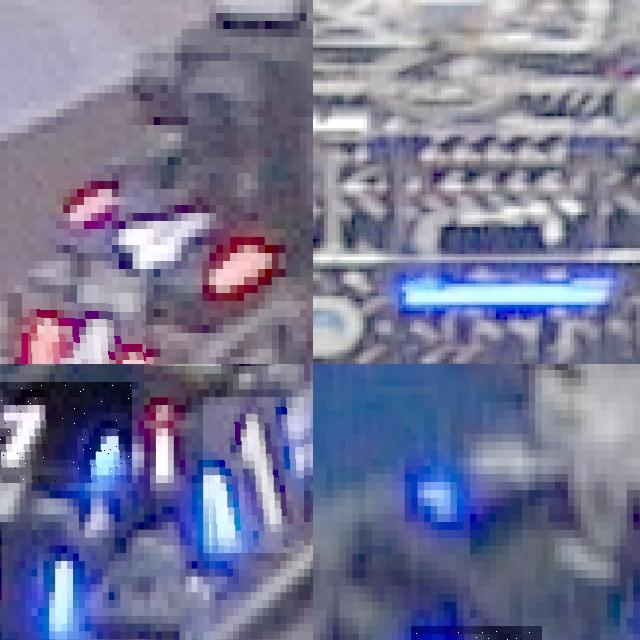B1: (203, 397, 304, 553), (0, 381, 132, 483), (0, 506, 84, 639)
R4: (21, 293, 146, 364)
